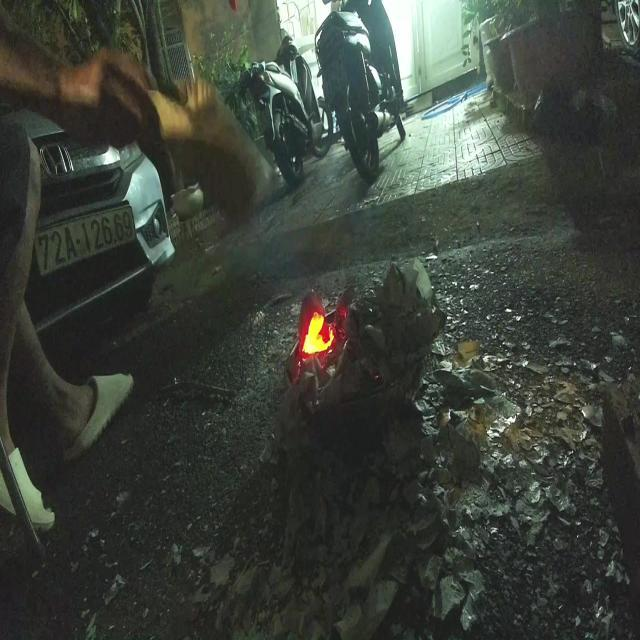Fire: (309, 188, 398, 288), (304, 312, 334, 358)
